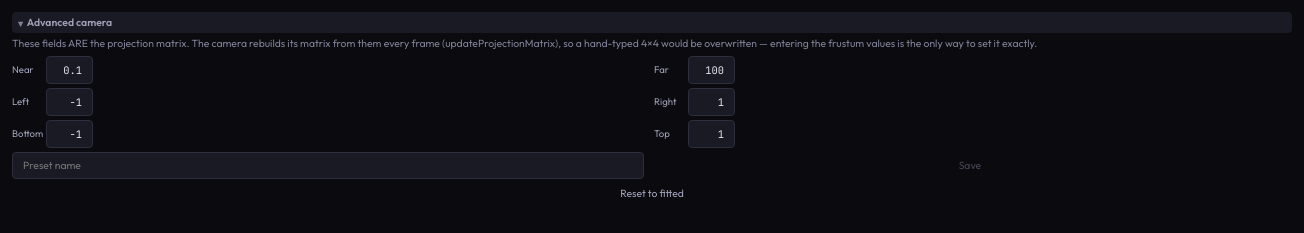
CameraAdvanced — an illegal value is rejected, never clamped › bottom >= top is rejected in orthographic
The image size is (1304, 233).
Step 1. Replace the text in the number field labelled "Bottom" with "2" → (69, 134), box [46,120,93,148]
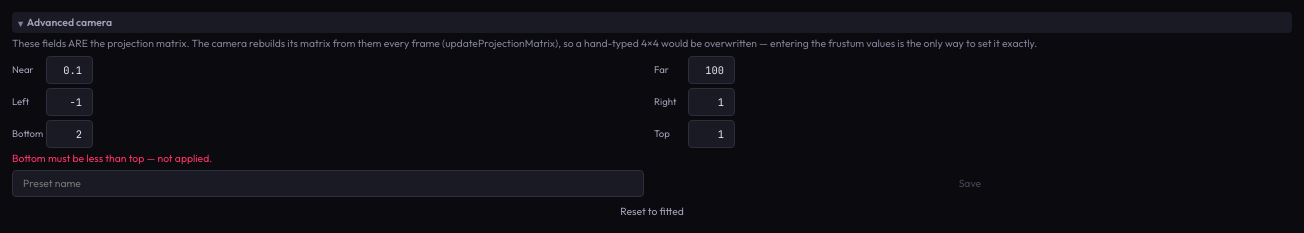
Now the text "Bottom must be less than top" is shown, box [12,152,144,165]
